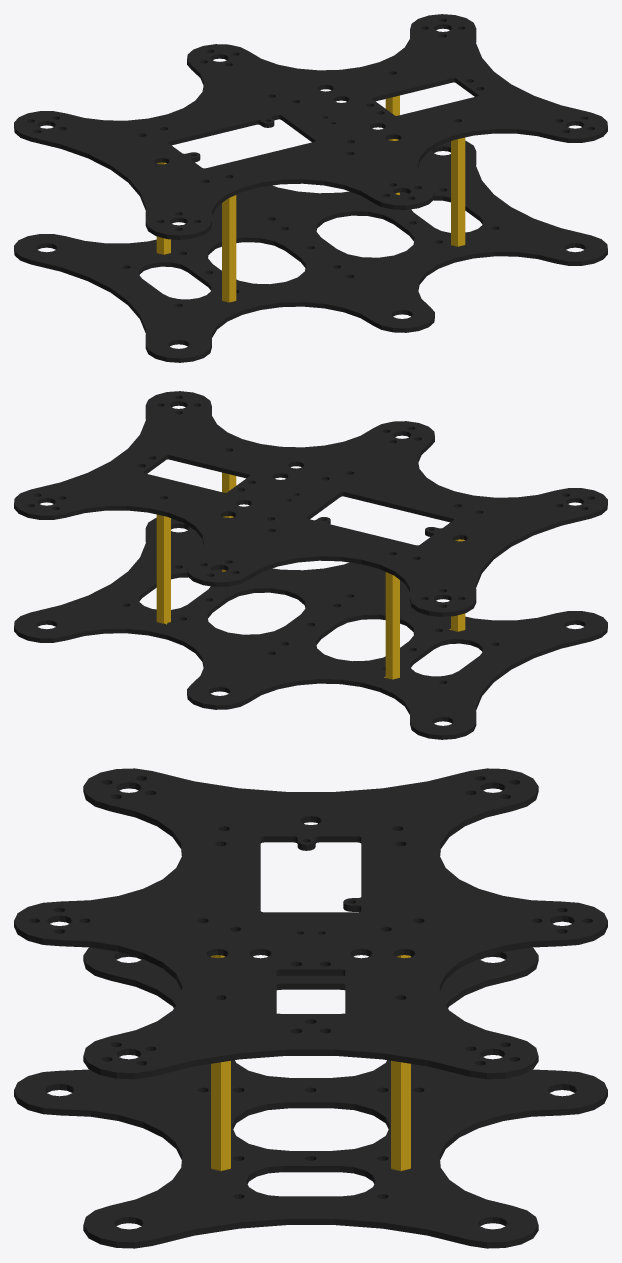
The picture shows the model from 3 angles, top to bottom: view 1: azimuth 30°, elevation 25°; view 2: azimuth 150°, elevation 25°; view 3: azimuth 270°, elevation 25°; orthographic projection. The views are drawn at different scales.
Parts seen in each view (by area): view 1: link0; view 2: link0; view 3: link0.
Boxes of the visible parts, x1,y1,x2,y2 form: link0: (14,14,607,362); link0: (14,391,607,739); link0: (14,768,607,1248).
Size of the model in its own units: 0.2004 by 0.1651 by 0.0538.
